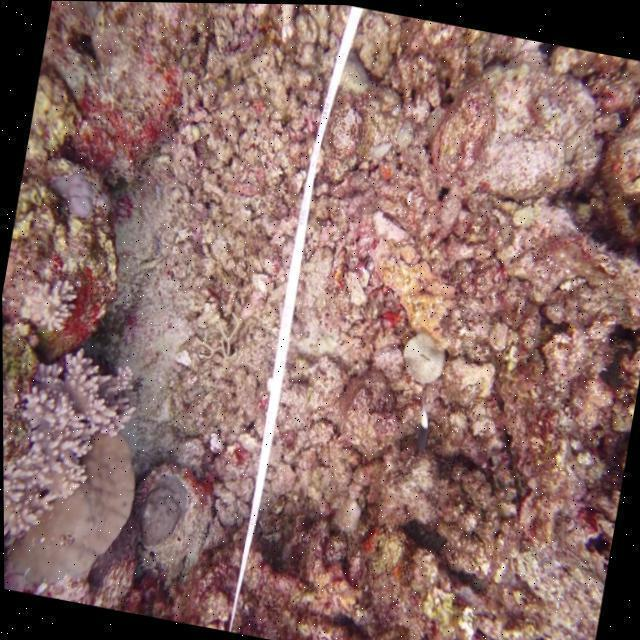Healthy Coral: (2, 346, 131, 509), (21, 276, 83, 331)
